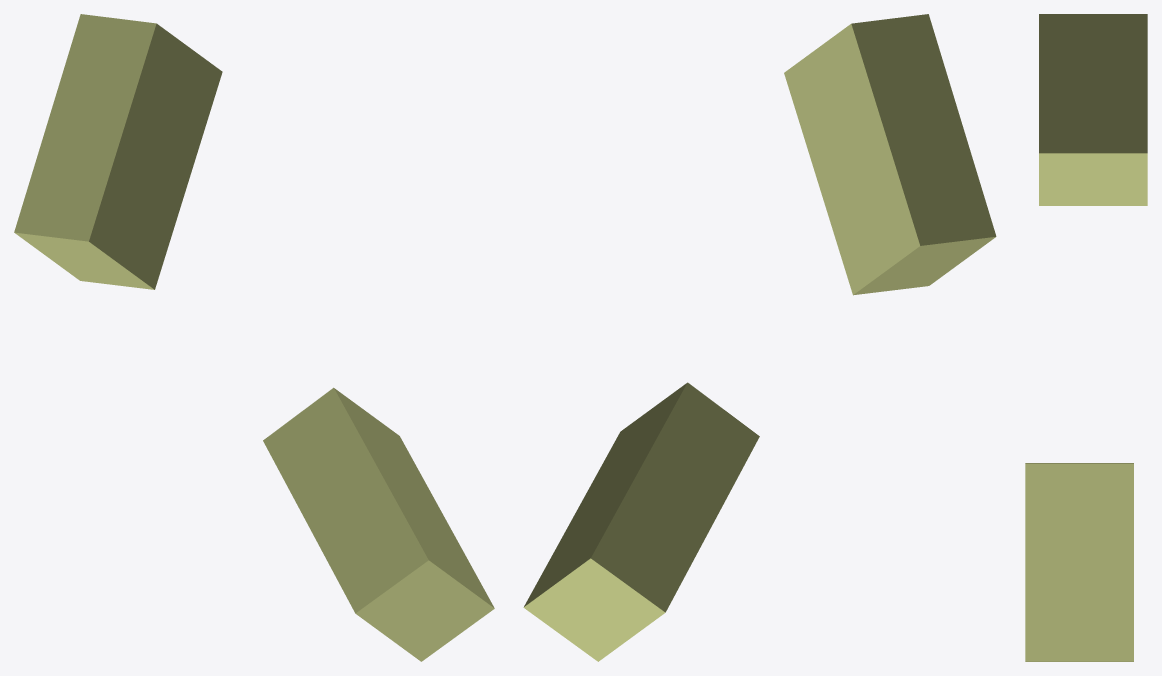
The picture shows the model from 3 angles, left to right: view 1: azimuth 30°, elevation 25°; view 2: azimuth 150°, elevation 25°; view 3: azimuth 270°, elevation 25°; orthographic projection. The views are drawn at different scales.
Parts seen in each view (by area): view 1: 0_1_1_3_2_3_2_2; view 2: 0_1_1_3_2_3_2_2; view 3: 0_1_1_3_2_3_2_2.
Part boxes in pixels (box(x1,y1,x2,y2)): 0_1_1_3_2_3_2_2: box(14, 14, 494, 661); 0_1_1_3_2_3_2_2: box(523, 14, 996, 661); 0_1_1_3_2_3_2_2: box(1025, 14, 1147, 661).
Size of the model in its own units: 31.97 by 49.5 by 10.13.
